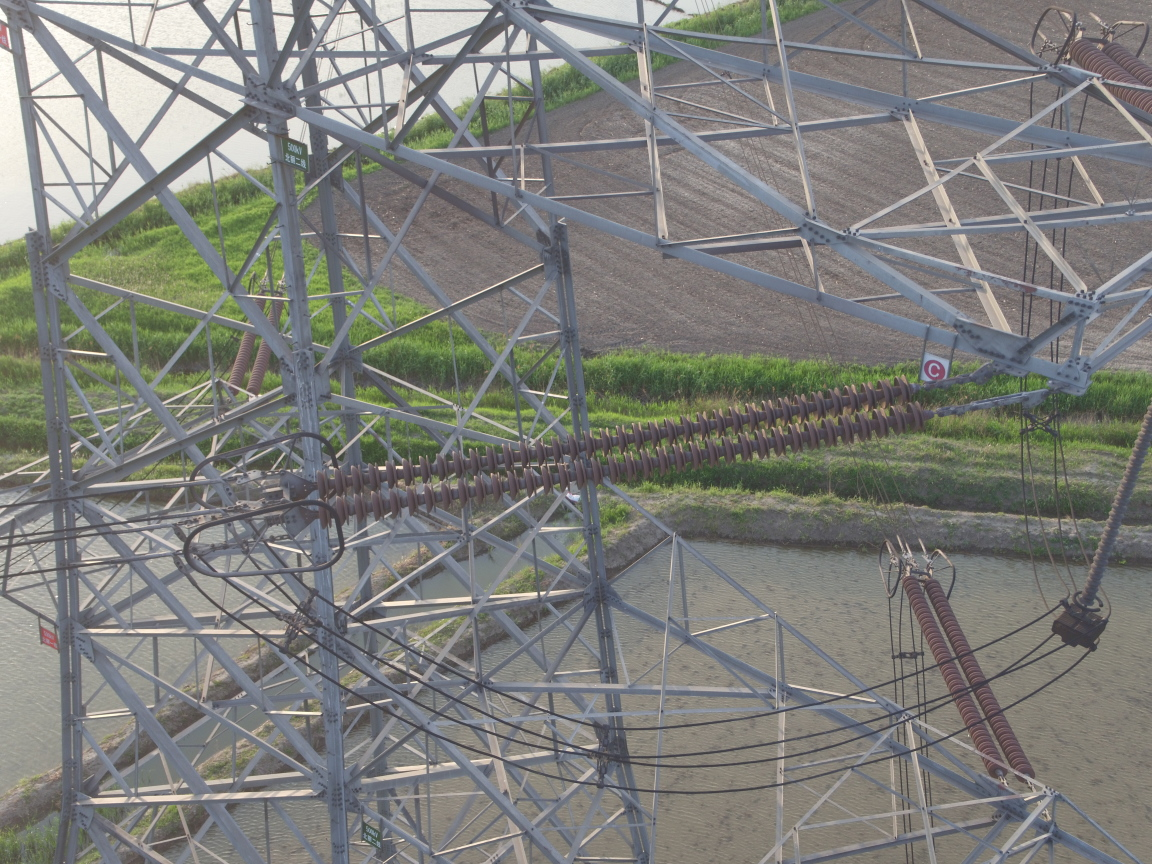insulator: (309, 374, 964, 528), (894, 572, 1044, 788)
